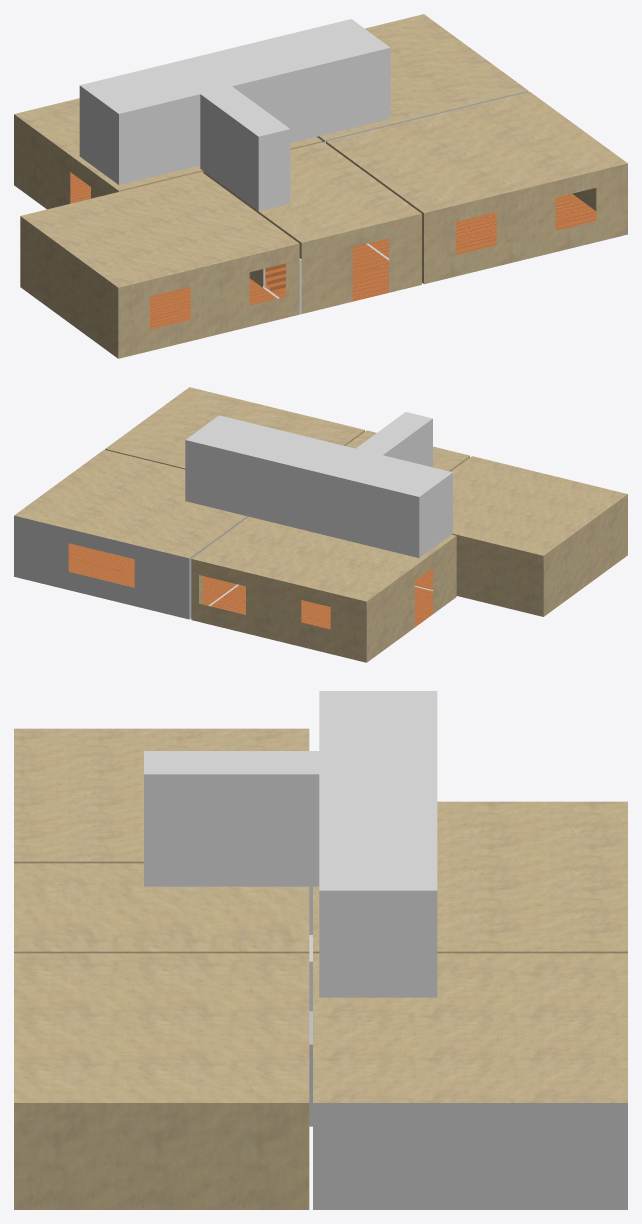
File: Haunted House Prototype V3.fbx
3 renders of one model, top to bottom at view 1: azimuth 30°, elevation 25°; view 2: azimuth 150°, elevation 25°; view 3: azimuth 270°, elevation 25°, orthographic. The views are drawn at different scales.
Visible parts, largest first — view 1: Cube, Living Room_Ceiling, Dining Room_Walls, Dining Room_Ceiling, Living Room_Walls, Family Room_Ceiling, Foyer_Ceiling, Foyer_Walls, KitchenNook_Walls, KitchenNook_Ceiling, Living Room_Floor, Foyer_Floor (+2 smaller); view 2: Cube, KitchenNook_Walls, Family Room_Ceiling, Dining Room_Ceiling, Dining Room_Walls, KitchenNook_Ceiling, Family Room_Walls, Living Room_Ceiling, Family Room_Floor, KitchenNook_Floor, Foyer_Ceiling; view 3: Cube, Living Room_Ceiling, Family Room_Ceiling, Family Room_Walls, Living Room_Walls, KitchenNook_Ceiling, Foyer_Ceiling, Dining Room_Ceiling, Cube.001, Foyer_Walls.
Part boxes in pixels (x1=…): Cube: x1=79, y1=19, x2=390, y2=210; Living Room_Ceiling: x1=326, y1=91, x2=627, y2=212; Dining Room_Walls: x1=20, y1=216, x2=299, y2=358; Dining Room_Ceiling: x1=21, y1=172, x2=298, y2=287; Living Room_Walls: x1=326, y1=141, x2=627, y2=284; Family Room_Ceiling: x1=319, y1=14, x2=527, y2=140; Foyer_Ceiling: x1=259, y1=142, x2=421, y2=242; Foyer_Walls: x1=203, y1=171, x2=421, y2=313; KitchenNook_Walls: x1=14, y1=114, x2=322, y2=209; KitchenNook_Ceiling: x1=14, y1=98, x2=321, y2=190; Living Room_Floor: x1=368, y1=193, x2=596, y2=258; Foyer_Floor: x1=265, y1=244, x2=388, y2=301; Cube: x1=185, y1=412, x2=452, y2=557; KitchenNook_Walls: x1=191, y1=536, x2=456, y2=662; Family Room_Ceiling: x1=14, y1=450, x2=246, y2=558; Dining Room_Ceiling: x1=451, y1=456, x2=627, y2=555; Dining Room_Walls: x1=452, y1=494, x2=627, y2=616; KitchenNook_Ceiling: x1=191, y1=516, x2=456, y2=601; Family Room_Walls: x1=14, y1=515, x2=248, y2=619; Living Room_Ceiling: x1=105, y1=387, x2=364, y2=468; Family Room_Floor: x1=68, y1=543, x2=236, y2=605; KitchenNook_Floor: x1=210, y1=585, x2=432, y2=629; Foyer_Ceiling: x1=346, y1=430, x2=469, y2=471; Cube: x1=144, y1=691, x2=437, y2=997; Living Room_Ceiling: x1=14, y1=953, x2=309, y2=1102; Family Room_Ceiling: x1=313, y1=953, x2=627, y2=1102; Family Room_Walls: x1=313, y1=1103, x2=627, y2=1209; Living Room_Walls: x1=14, y1=1103, x2=309, y2=1209; KitchenNook_Ceiling: x1=313, y1=801, x2=627, y2=951; Foyer_Ceiling: x1=14, y1=863, x2=309, y2=951; Dining Room_Ceiling: x1=14, y1=728, x2=309, y2=861; Cube.001: x1=144, y1=881, x2=319, y2=886; Foyer_Walls: x1=14, y1=951, x2=309, y2=953.
Size of the model in its own units: 2250 by 615 by 1560.
